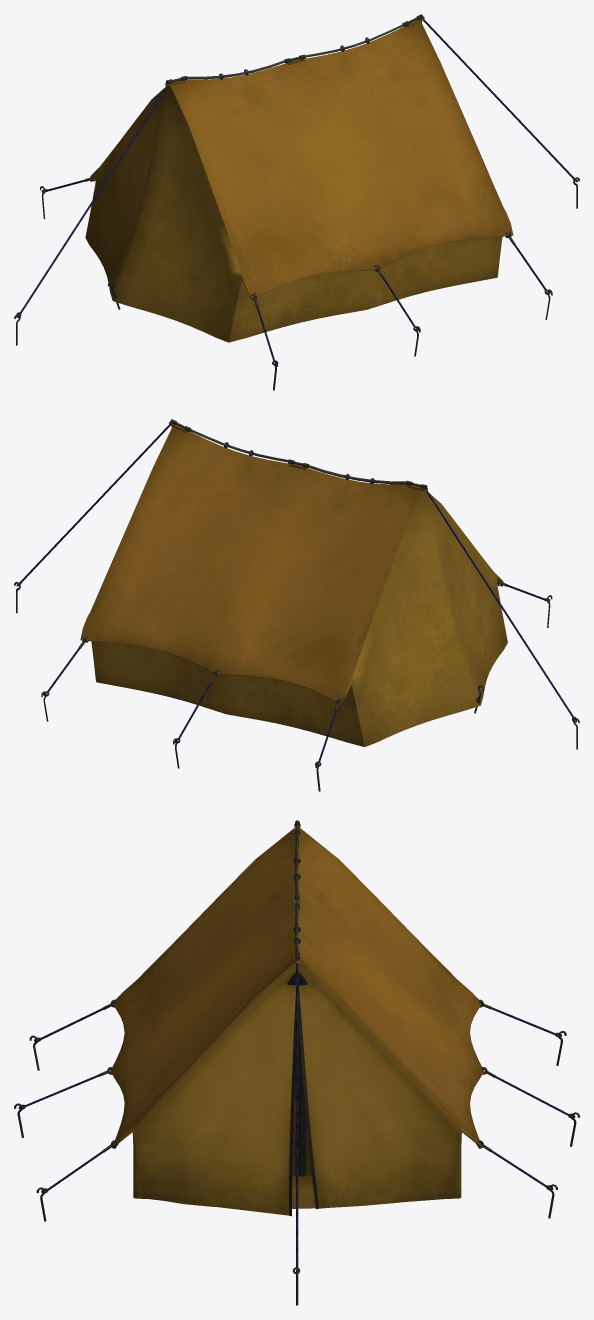
3 renders of one model, top to bottom at view 1: azimuth 30°, elevation 25°; view 2: azimuth 150°, elevation 25°; view 3: azimuth 270°, elevation 25°, orthographic. The views are drawn at different scales.
Visible parts, largest first — view 1: Tent_BakedWind_0; view 2: Tent_BakedWind_0; view 3: Tent_BakedWind_0.
Part boxes in pixels (x1,y1,x2,y2): Tent_BakedWind_0: [14, 14, 579, 390]; Tent_BakedWind_0: [14, 419, 579, 791]; Tent_BakedWind_0: [14, 820, 579, 1305].
Size of the model in its own units: 4.51 by 1.76 by 3.44.
Materials: 1 (1 with a texture image).
